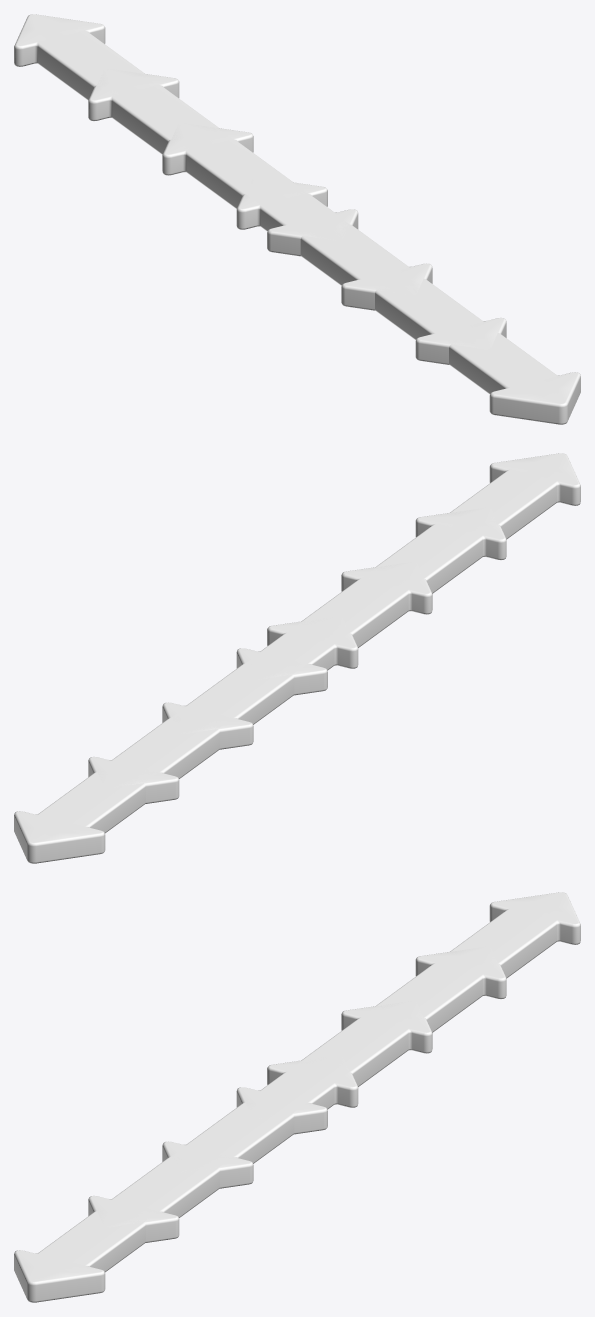
The model's file is Arrow.fbx.
3 renders of one model, top to bottom at view 1: azimuth 30°, elevation 25°; view 2: azimuth 150°, elevation 25°; view 3: azimuth 330°, elevation 25°, orthographic.
Parts seen in each view (by area): view 1: Arrow; view 2: Arrow; view 3: Arrow.
Boxes of the visible parts, x1,y1,x2,y2 form: Arrow: (14,14,580,424); Arrow: (14,453,580,863); Arrow: (14,892,580,1302).
Bounding box in the file's own units: 0.3489 × 0.0777 × 3.6.
Materials: 1 (1 with a texture image).
